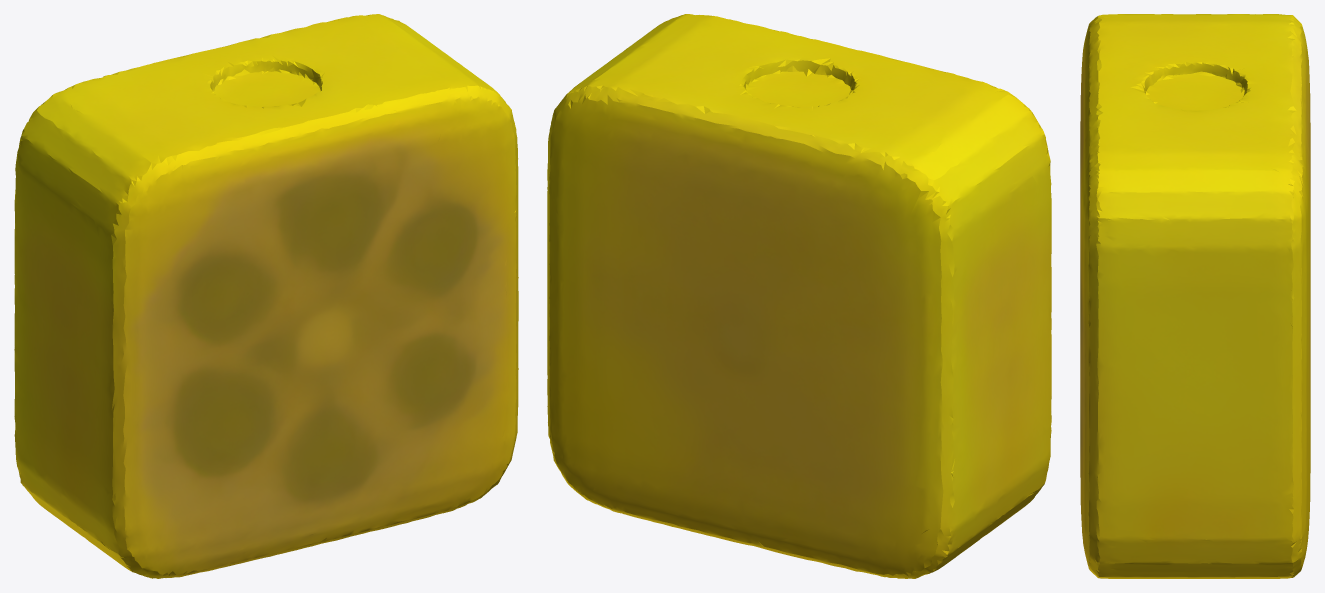
File: butter-block.glb
3 renders of one model, left to right at view 1: azimuth 30°, elevation 25°; view 2: azimuth 150°, elevation 25°; view 3: azimuth 270°, elevation 25°, orthographic.
Visible parts, largest first — view 1: Butter_Block; view 2: Butter_Block; view 3: Butter_Block.
Part boxes in pixels (x1,y1,x2,y2): Butter_Block: (14, 14, 518, 578); Butter_Block: (547, 14, 1051, 578); Butter_Block: (1080, 14, 1310, 578).
Size of the model in its own units: 1.89 by 1.9 by 0.9429.
1 material, 1 textured.
